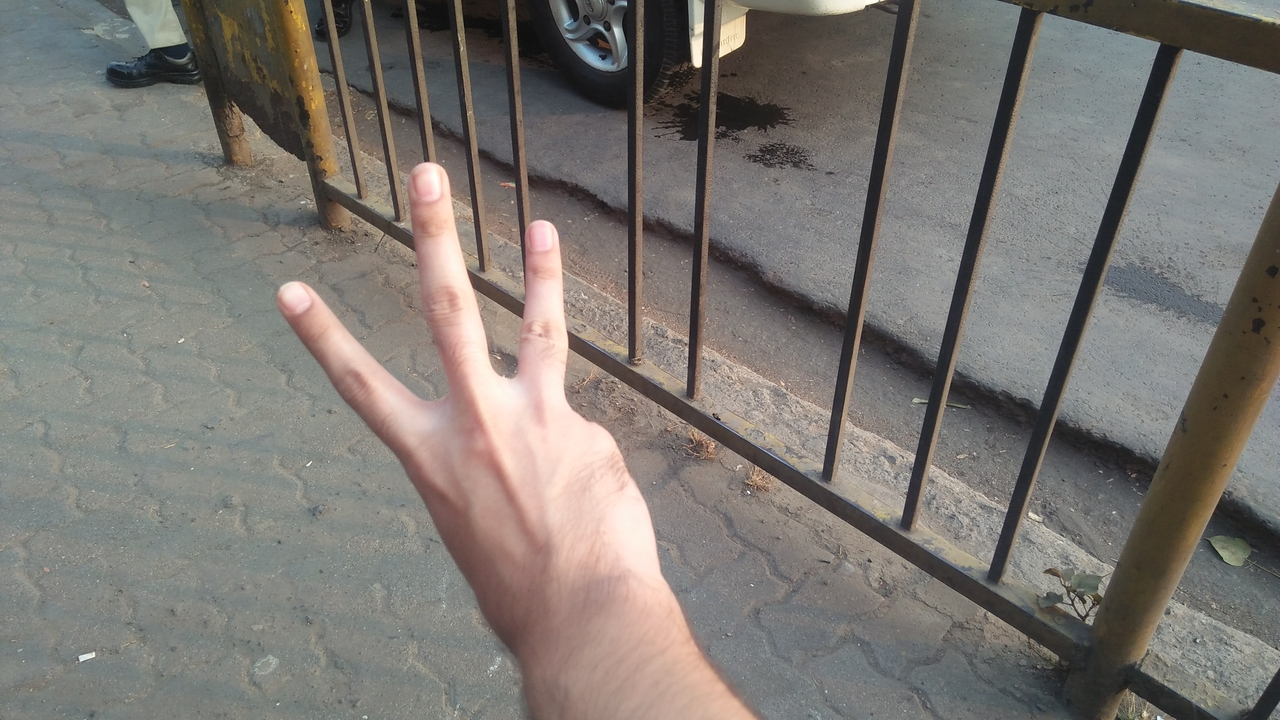fingertip: (262, 268, 322, 326), (402, 154, 452, 212), (520, 212, 568, 256)
